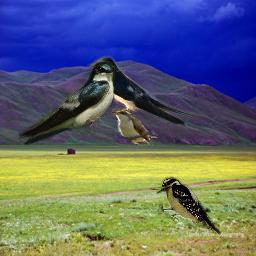Cuckoo: (110, 107, 157, 146)
Swallow: (19, 61, 115, 146), (87, 54, 200, 126)
Woodpecker: (156, 175, 221, 235)
